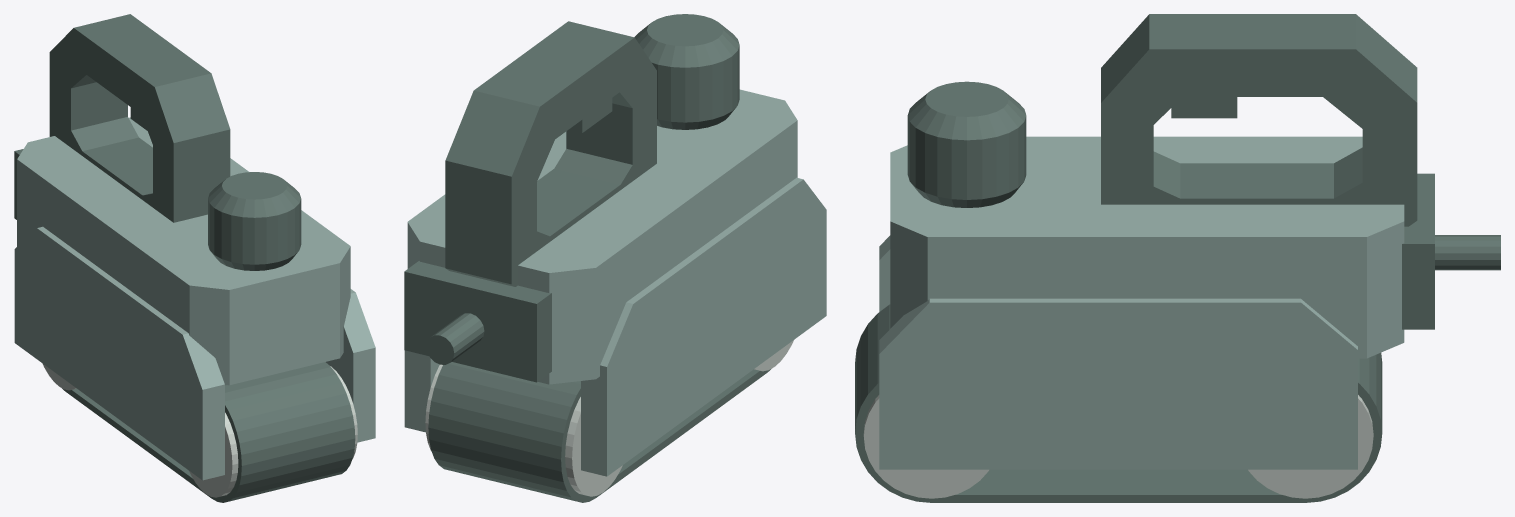
3 views of the same model, side by side, from view 1: azimuth 30°, elevation 25°; view 2: azimuth 150°, elevation 25°; view 3: azimuth 270°, elevation 25° (orthographic). The views are drawn at different scales.
Parts seen in each view (by area): view 1: WholeUpperMotorCase, WholeRootedSideCheek_-1, WholeTrueOpenRearGrip, WholeContinuousClosedCapsuleBelt, WholeFrontRoundGripKnob, WholeRootedSideCheek_1, WholeFiniteEndDrum_0; view 2: WholeTrueOpenRearGrip, WholeRootedSideCheek_-1, WholeUpperMotorCase, WholeContinuousClosedCapsuleBelt, WholeRearMotorCap, WholeFrontRoundGripKnob, WholeFiniteEndDrum_1, WholeRootedSideCheek_1, WholeShortCableEntry, WholeUnderGripTrigger; view 3: WholeRootedSideCheek_1, WholeUpperMotorCase, WholeTrueOpenRearGrip, WholeContinuousClosedCapsuleBelt, WholeFrontRoundGripKnob, WholeRearMotorCap, WholeFiniteEndDrum_0, WholeFiniteEndDrum_1, WholeShortCableEntry, WholeUnderGripTrigger, WholeRootedSideCheek_-1.
Boxes of the visible parts, left/top/right/bottom form: WholeUpperMotorCase: left=17, top=117, right=350, bottom=385; WholeRootedSideCheek_-1: left=14, top=226, right=224, bottom=480; WholeTrueOpenRearGrip: left=49, top=14, right=230, bottom=222; WholeContinuousClosedCapsuleBelt: left=62, top=362, right=355, bottom=502; WholeFrontRoundGripKnob: left=208, top=172, right=301, bottom=270; WholeRootedSideCheek_1: left=326, top=289, right=375, bottom=442; WholeFiniteEndDrum_0: left=189, top=366, right=357, bottom=497; WholeTrueOpenRearGrip: left=445, top=21, right=656, bottom=286; WholeRootedSideCheek_-1: left=581, top=177, right=826, bottom=476; WholeUpperMotorCase: left=407, top=89, right=797, bottom=384; WholeContinuousClosedCapsuleBelt: left=428, top=362, right=770, bottom=502; WholeRearMotorCap: left=404, top=261, right=551, bottom=382; WholeFrontRoundGripKnob: left=634, top=14, right=739, bottom=129; WholeFiniteEndDrum_1: left=425, top=364, right=622, bottom=496; WholeRootedSideCheek_1: left=404, top=350, right=439, bottom=432; WholeShortCableEntry: left=426, top=313, right=484, bottom=364; WholeUnderGripTrigger: left=568, top=98, right=612, bottom=133; WholeRootedSideCheek_1: left=879, top=298, right=1357, bottom=469; WholeUpperMotorCase: left=890, top=136, right=1404, bottom=358; WholeTrueOpenRearGrip: left=1101, top=14, right=1417, bottom=226; WholeContinuousClosedCapsuleBelt: left=855, top=304, right=1382, bottom=502; WholeFrontRoundGripKnob: left=907, top=81, right=1026, bottom=207; WholeRearMotorCap: left=1402, top=173, right=1434, bottom=329; WholeFiniteEndDrum_0: left=863, top=395, right=988, bottom=498; WholeFiniteEndDrum_1: left=1248, top=395, right=1373, bottom=498; WholeShortCableEntry: left=1435, top=235, right=1500, bottom=270; WholeUnderGripTrigger: left=1171, top=97, right=1237, bottom=118; WholeRootedSideCheek_-1: left=879, top=235, right=890, bottom=311.
Bounding box in the file's own units: 0.116 × 0.219 × 0.294.
